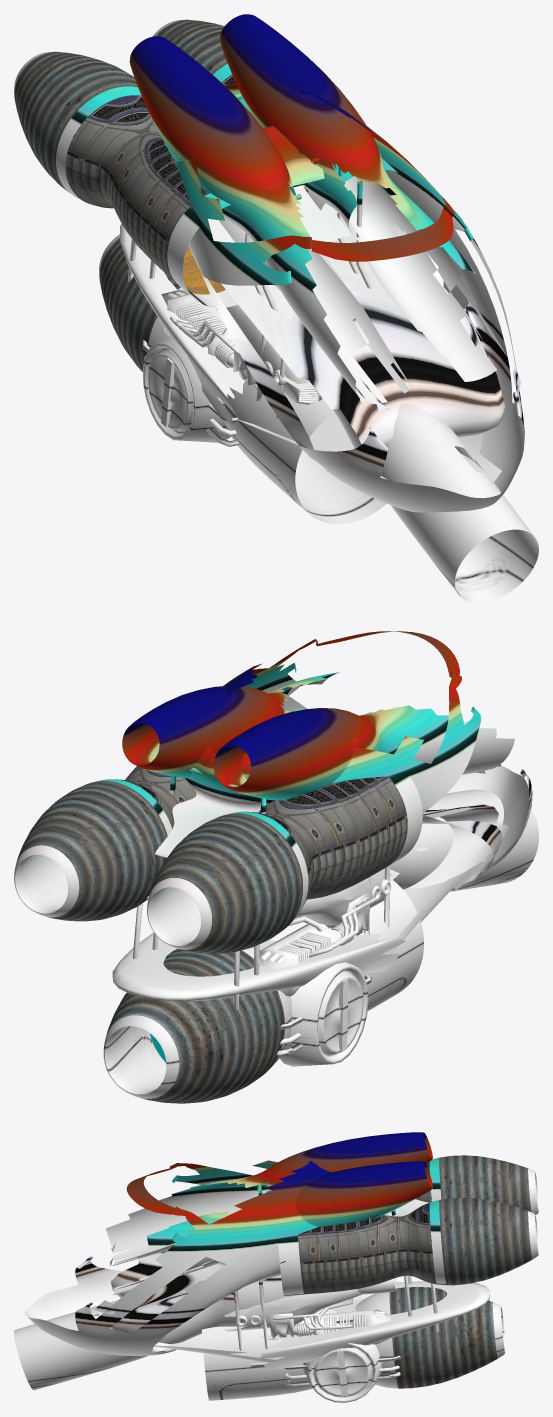
Rendered from BirdPE.glb.
3 views of the same model, one above another, from view 1: azimuth 30°, elevation 25°; view 2: azimuth 150°, elevation 25°; view 3: azimuth 270°, elevation 25° (orthographic). The views are drawn at different scales.
Parts seen in each view (by area): view 1: ship flying.001; view 2: ship flying.001; view 3: ship flying.001.
Boxes of the visible parts, box(x1,y1,x2,y2) form: ship flying.001: box(14, 14, 538, 602); ship flying.001: box(14, 631, 538, 1103); ship flying.001: box(14, 1132, 538, 1402).
Bounding box in the file's own units: 1.87 × 2.66 × 5.06.
Materials: 6 (4 with a texture image).
